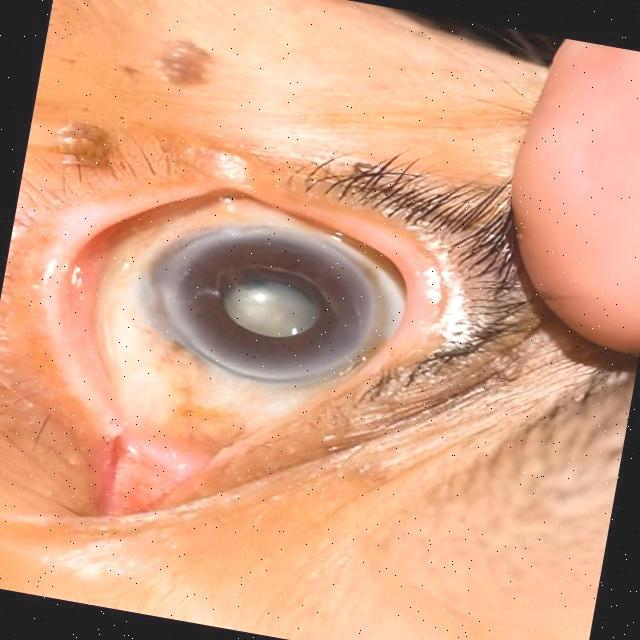Cataract: (127, 200, 400, 413)
